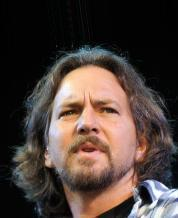face: (57, 100, 129, 163)
